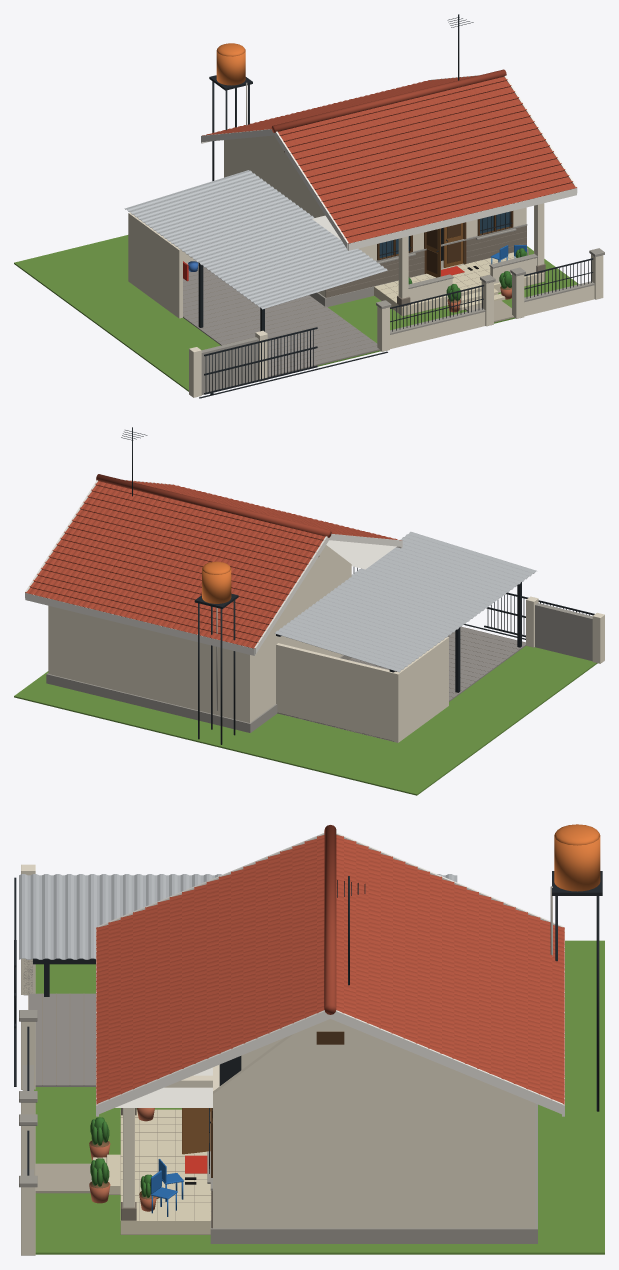
File: rumah.glb
3 views of the same model, one above another, from view 1: azimuth 30°, elevation 25°; view 2: azimuth 150°, elevation 25°; view 3: azimuth 270°, elevation 25° (orthographic). The views are drawn at different scales.
Visible parts, largest first — view 1: Atap_depan, Spandek, Rumput, Paving_garasi, Dinding_samping_kiri, Lantai_teras, Tembok_tetangga, Gevel0, Atap_belakang, Bubungan, Lisplang_depan, Dinding_kiri (+14 smaller); view 2: Atap_belakang, Rumput, Spandek, Dinding_belakang, Dinding_garasi_belakang, Dinding_samping_kiri, Dinding_kiri, Paving_garasi, Tembok_tetangga, Pondasi, Atap_depan, Bubungan (+7 smaller); view 3: Dinding_kanan, Atap_depan, Atap_belakang, Rumput, Gevel1, Spandek, Lantai_teras, Paving_garasi, Pondasi, Lisplang_samping10, Lisplang_samping11, Bubungan (+14 smaller).
Part boxes in pixels (left/top/right/bottom): Atap_depan: left=278, top=76, right=576, bottom=243; Spandek: left=124, top=170, right=387, bottom=309; Rumput: left=14, top=235, right=578, bottom=391; Paving_garasi: left=183, top=265, right=379, bottom=377; Dinding_samping_kiri: left=128, top=212, right=182, bottom=318; Lantai_teras: left=374, top=252, right=544, bottom=316; Tembok_tetangga: left=201, top=337, right=258, bottom=394; Gevel0: left=225, top=135, right=322, bottom=211; Atap_belakang: left=202, top=75, right=475, bottom=135; Bubungan: left=271, top=69, right=506, bottom=132; Lisplang_depan: left=347, top=188, right=576, bottom=250; Dinding_kiri: left=224, top=140, right=325, bottom=297; Atap_belakang: left=25, top=481, right=325, bottom=648; Rumput: left=14, top=646, right=597, bottom=795; Spandek: left=275, top=531, right=536, bottom=672; Dinding_belakang: left=48, top=605, right=251, bottom=722; Dinding_garasi_belakang: left=276, top=643, right=395, bottom=741; Dinding_samping_kiri: left=394, top=637, right=448, bottom=742; Dinding_kiri: left=246, top=566, right=351, bottom=722; Paving_garasi: left=277, top=627, right=525, bottom=741; Tembok_tetangga: left=535, top=603, right=592, bottom=661; Pondasi: left=46, top=655, right=351, bottom=732; Atap_depan: left=126, top=480, right=401, bottom=540; Bubungan: left=96, top=474, right=331, bottom=537; Dinding_kanan: left=213, top=1094, right=535, bottom=1228; Atap_depan: left=96, top=835, right=324, bottom=1104; Atap_belakang: left=336, top=835, right=564, bottom=1104; Rumput: left=34, top=940, right=604, bottom=1254; Gevel1: left=213, top=1019, right=512, bottom=1094; Spandek: left=19, top=874, right=457, bottom=959; Lantai_teras: left=120, top=1109, right=211, bottom=1234; Paving_garasi: left=29, top=993, right=95, bottom=1086; Pondasi: left=210, top=1104, right=537, bottom=1243; Lisplang_samping10: left=97, top=1010, right=330, bottom=1114; Lisplang_samping11: left=330, top=1010, right=563, bottom=1114; Bubungan: left=324, top=825, right=336, bottom=1014.
Bounding box in the file's own units: 16.36 × 8.35 × 12.81.
